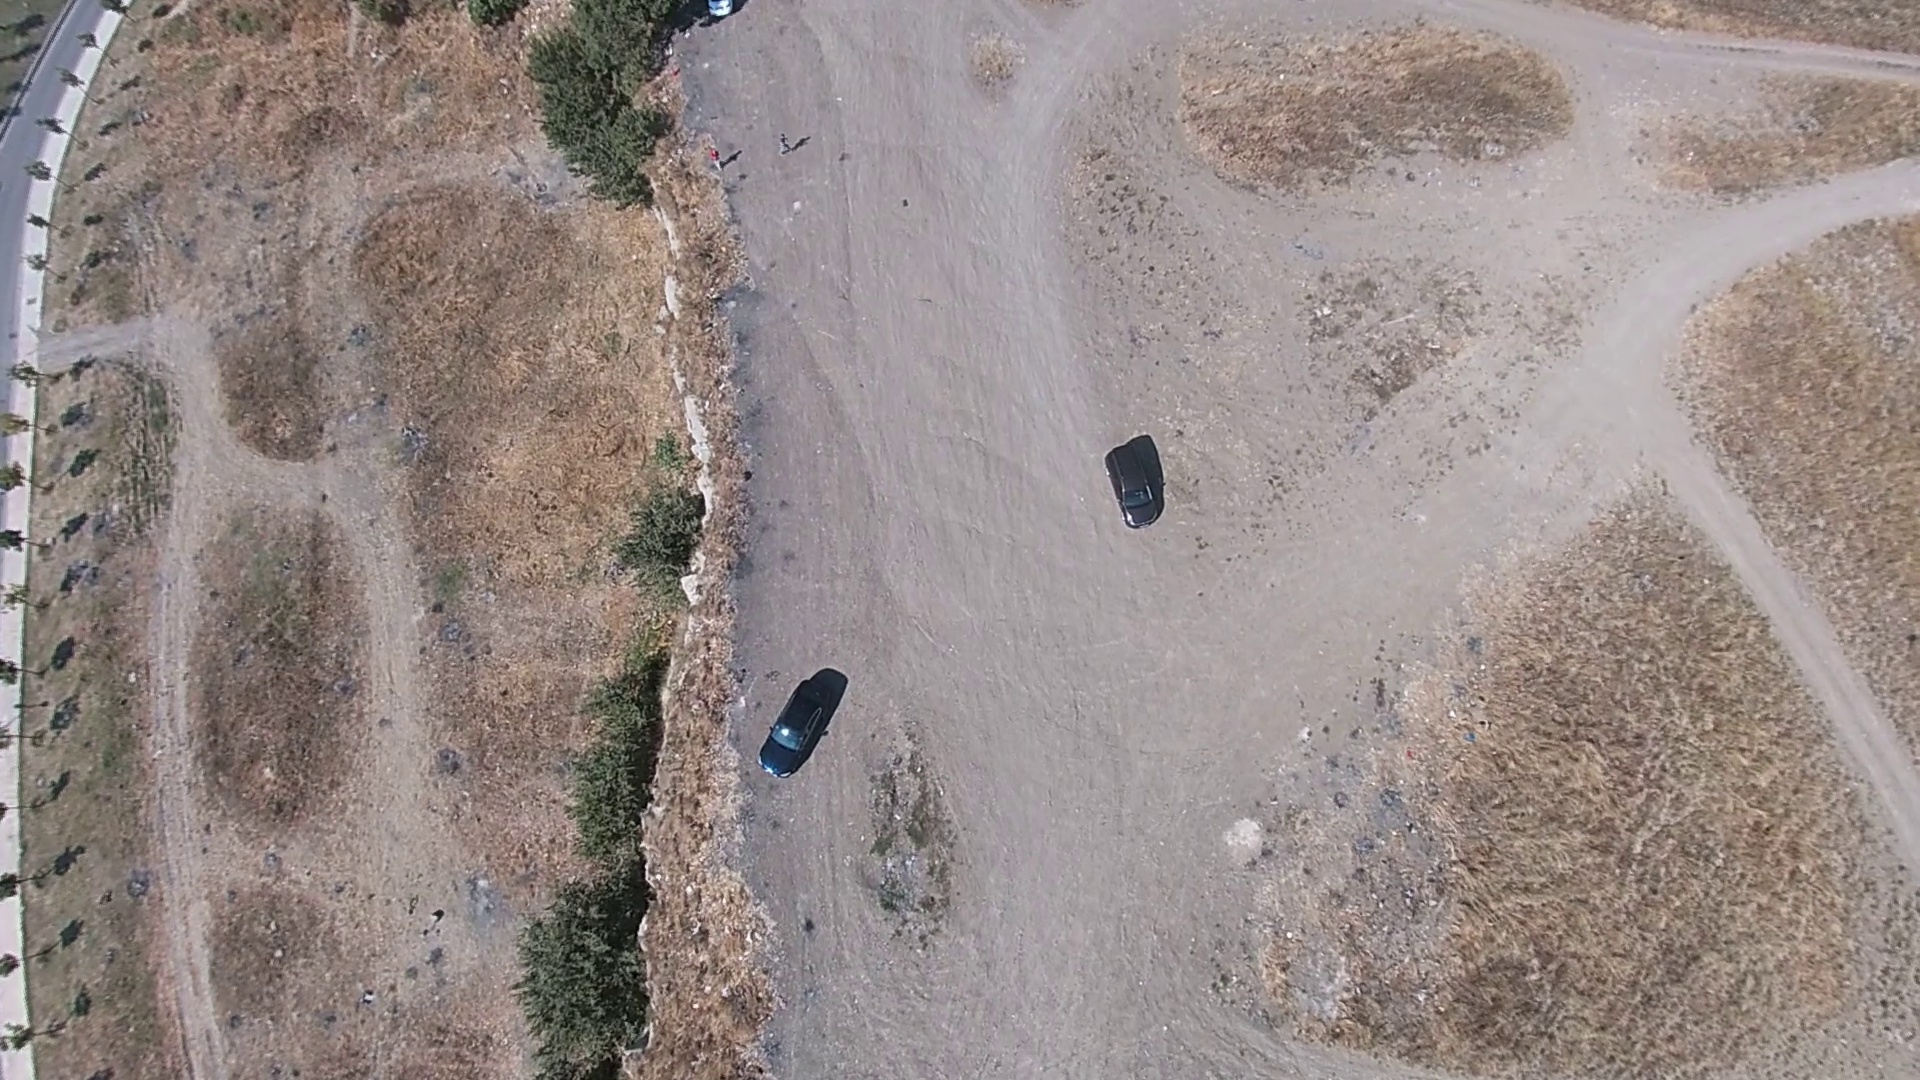arac: (755, 671, 842, 779), (1100, 433, 1163, 528)
insan: (704, 143, 726, 171), (769, 124, 791, 148)
